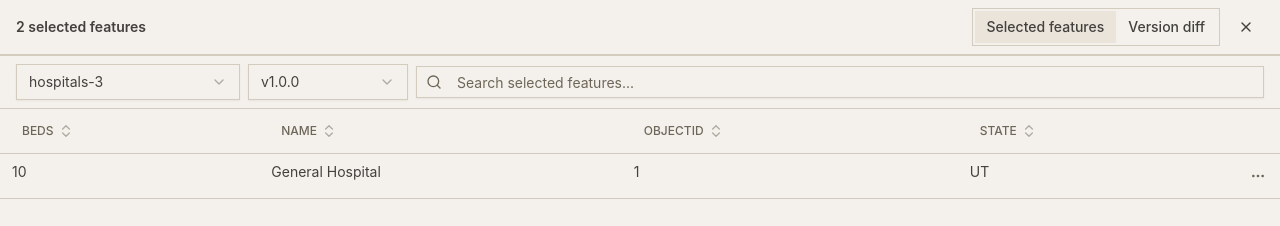
Test case: FeatureTablePanel › defaults the diff grid to changed columns and can switch to all columns
Click the button "Version diff".
click(1167, 27)  # box [1116, 11, 1217, 43]
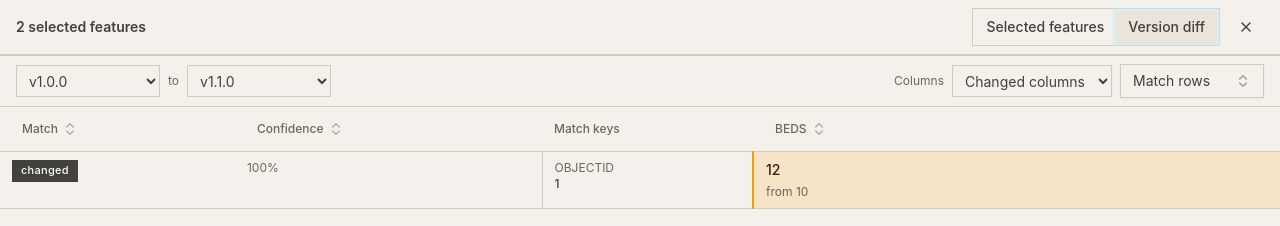
Select "All columns" in the dropdown named "Columns" at (1032, 81), box [952, 65, 1112, 97]
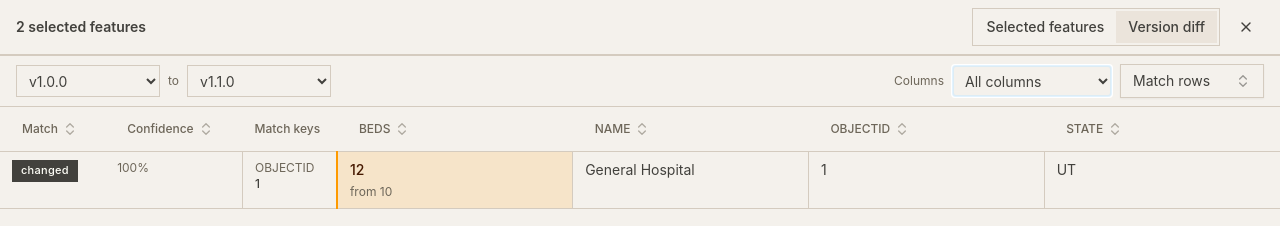
Expected: the button with aria-label "Sort by OBJECTID" is shown, [820, 115, 920, 143]
Expected: the button with aria-label "Sort by STATE" is shown, [1056, 115, 1133, 143]
